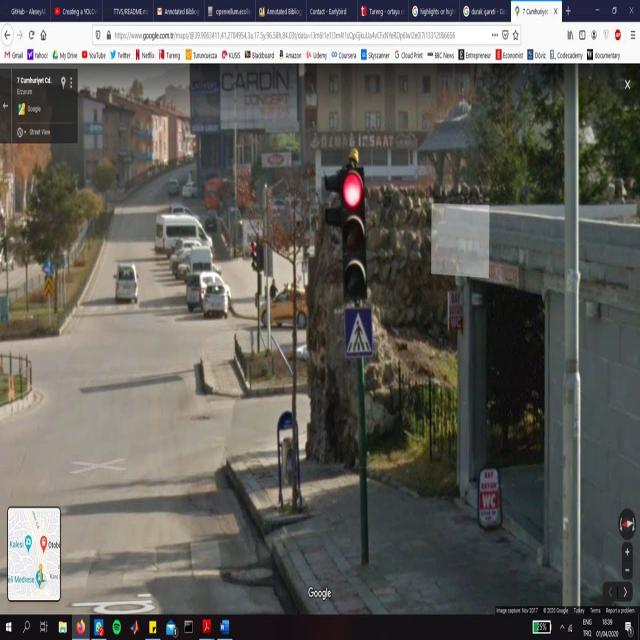kirmizi: (342, 171, 367, 301)
